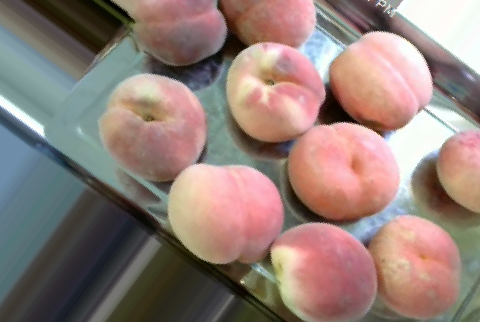Peach: (167, 164, 283, 267), (98, 72, 204, 183), (287, 122, 398, 220), (269, 221, 377, 321), (330, 28, 430, 131), (368, 216, 462, 319), (227, 42, 325, 140), (123, 0, 227, 66)
